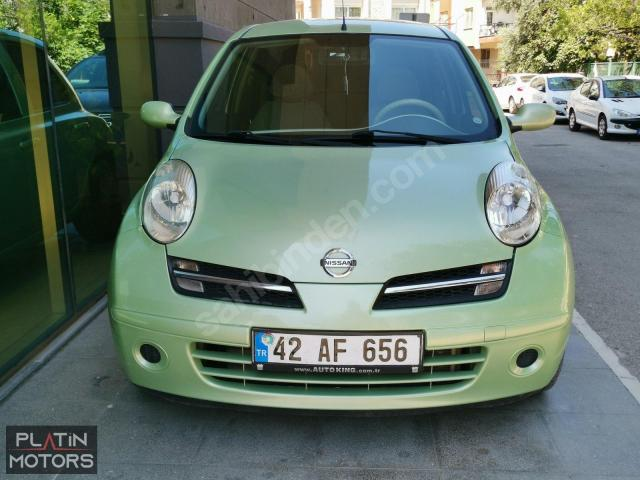plaka: (253, 329, 424, 372)
